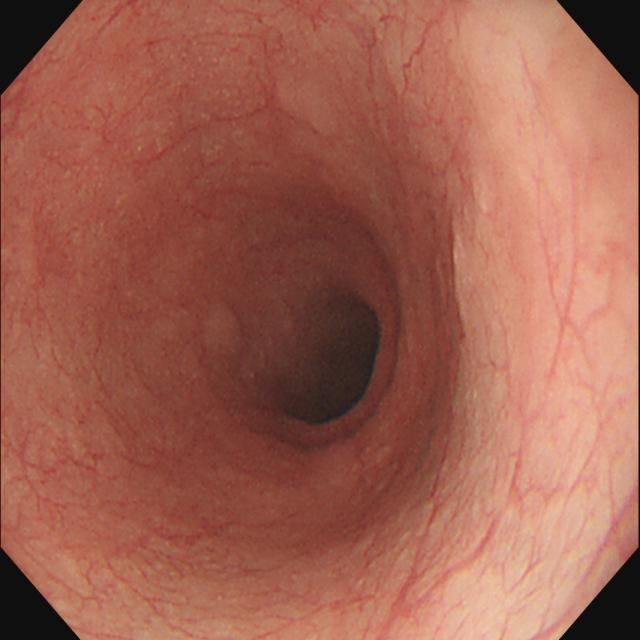E: (273, 293, 386, 428)
